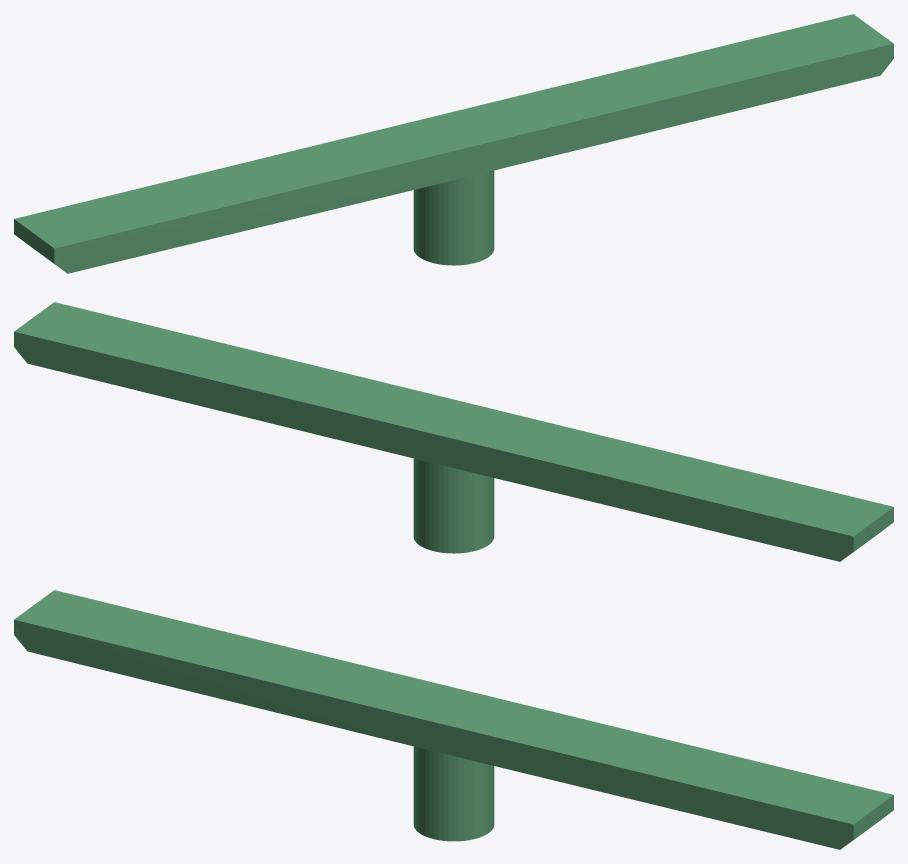
File: nav_pusher_support.obj
The picture shows the model from 3 angles, top to bottom: view 1: azimuth 30°, elevation 25°; view 2: azimuth 150°, elevation 25°; view 3: azimuth 330°, elevation 25°; orthographic projection.
Parts seen in each view (by area): view 1: Cylinder; view 2: Cylinder; view 3: Cylinder.
Part boxes in pixels (x1=…): Cylinder: x1=14, y1=14, x2=893, y2=273; Cylinder: x1=14, y1=302, x2=893, y2=561; Cylinder: x1=14, y1=590, x2=893, y2=849.
Bounding box in the file's own units: 60 × 8 × 5.01.
